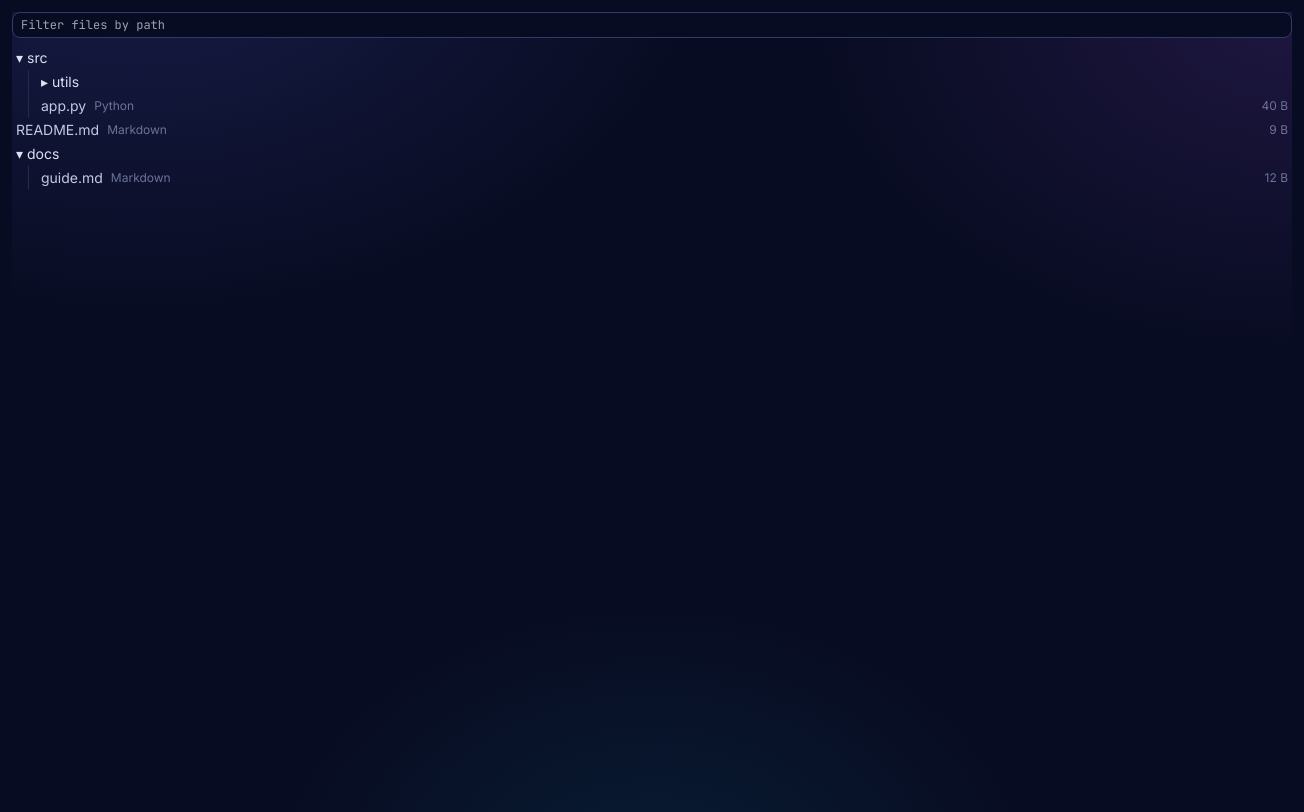
Test: File filter matching › shows the full path, language and size of every match
This screenshot has width=1304, height=812.
Type "a" into the search field labelled "Filter files by path" at (652, 25), box [12,12,1292,38]
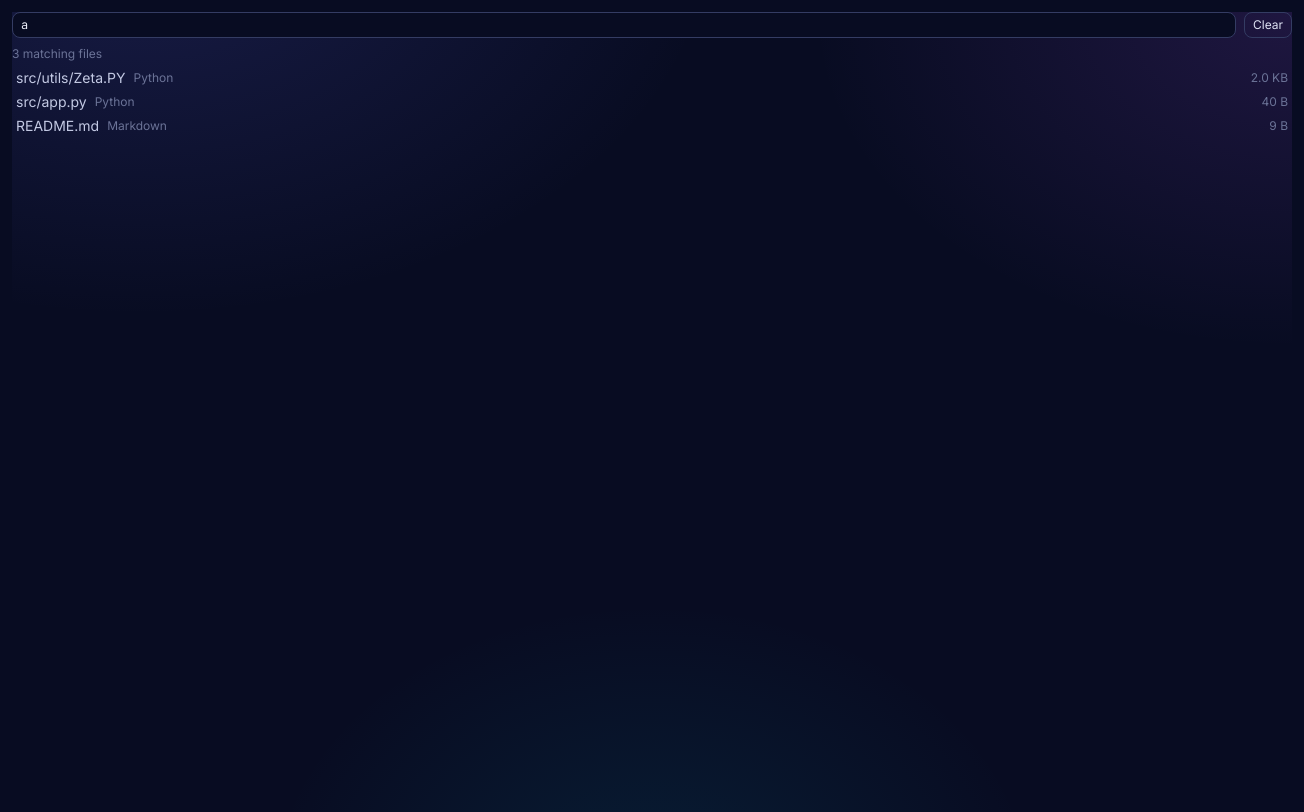
Now the list items read "src/utils/Zeta.PYPython2.0 KB", "src/app.pyPython40 B", "README.mdMarkdown9 B", in this order, box [12,66,1292,90]; [12,90,1292,114]; [12,114,1292,138]
